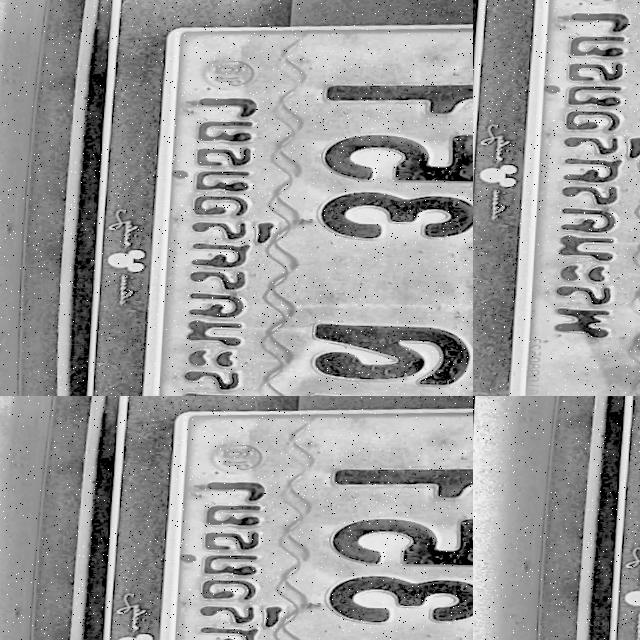license-plate: (566, 396, 640, 640)
